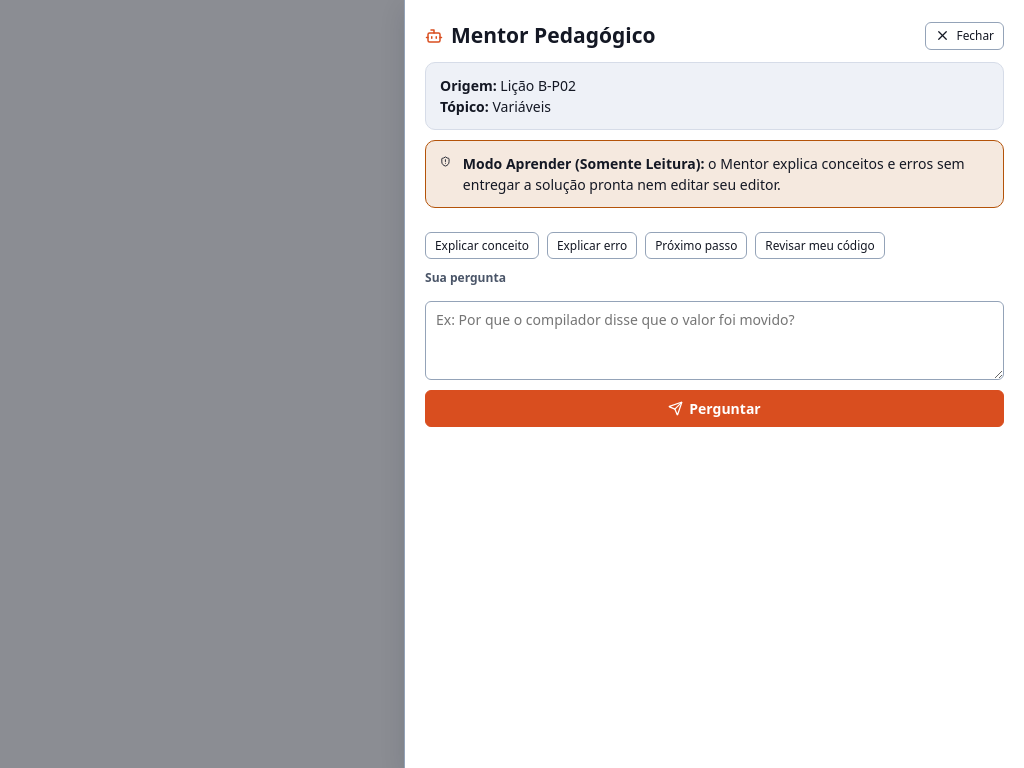
Test: RustLab Desktop V4 UI › aplica política somente leitura no MentorDrawer quando learnMode=true
Expected: the text "Modo Aprender (Somente Leitura):" is shown, [463,154,704,172]
Click the button "Explicar conceito".
click(482, 245)  # box [425,232,539,259]
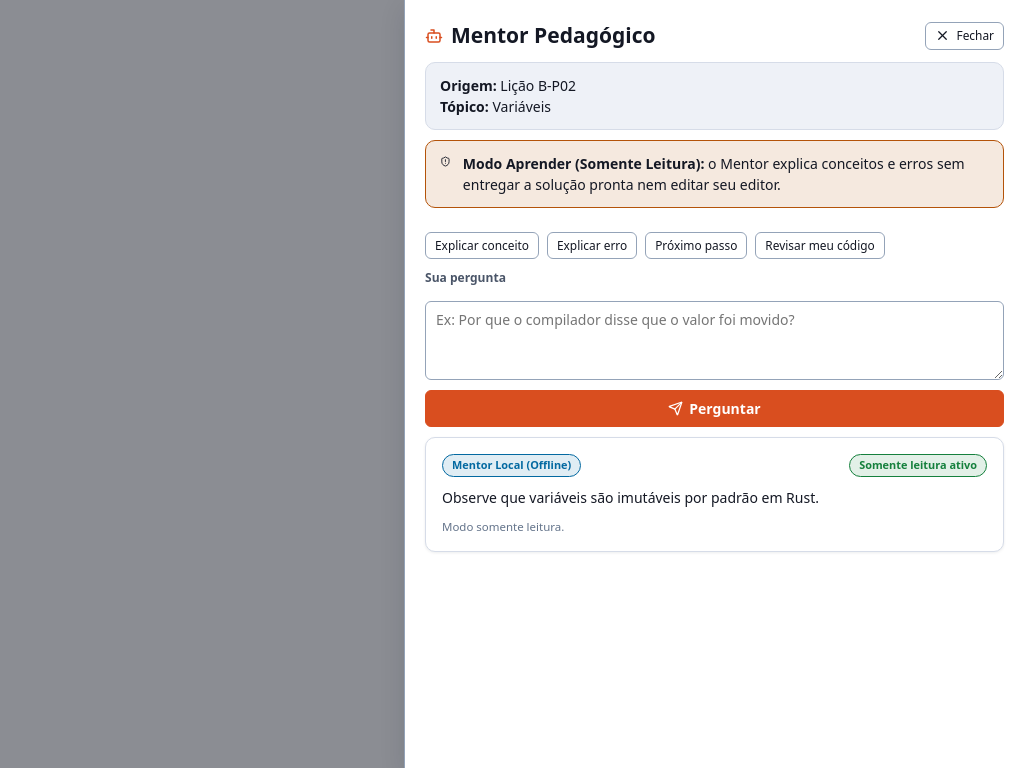
Result: the text "Somente leitura ativo" is shown at [849,454,987,477]
